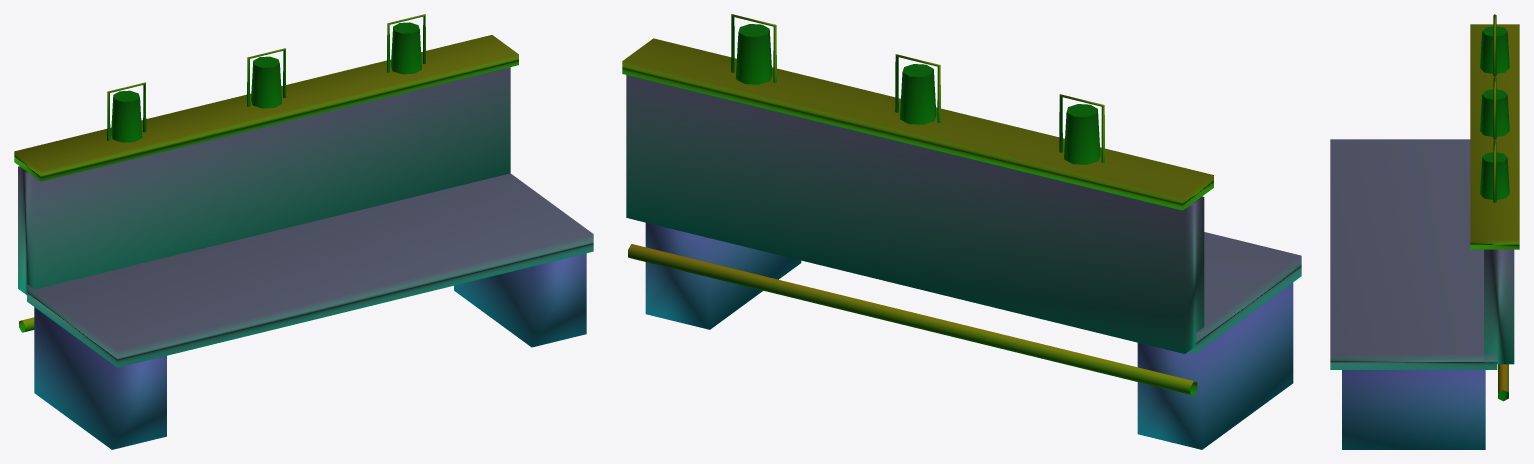
File: lowlight_lamp_bench.glb
3 renders of one model, left to right at view 1: azimuth 30°, elevation 25°; view 2: azimuth 150°, elevation 25°; view 3: azimuth 270°, elevation 25°, orthographic. The views are drawn at different scales.
Visible parts, largest first — view 1: lowlight_lamp_bench; view 2: lowlight_lamp_bench; view 3: lowlight_lamp_bench.
Boxes of the visible parts, x1,y1,x2,y2 form: lowlight_lamp_bench: (14,14,593,449); lowlight_lamp_bench: (622,14,1301,449); lowlight_lamp_bench: (1330,14,1519,449).
Size of what is drawn, in the model's own units: 2.4 by 1.33 by 0.8873.
